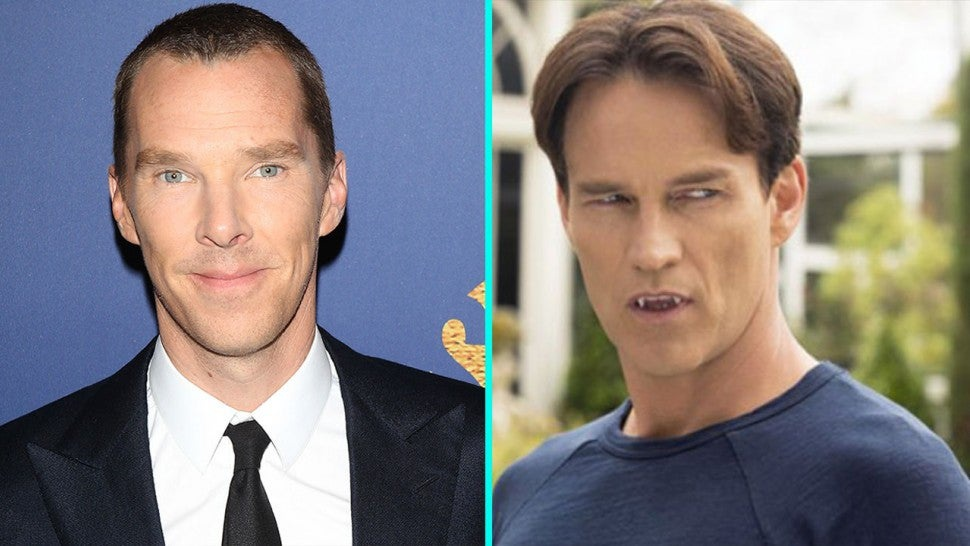bad: (538, 142, 761, 365), (117, 118, 340, 341)
